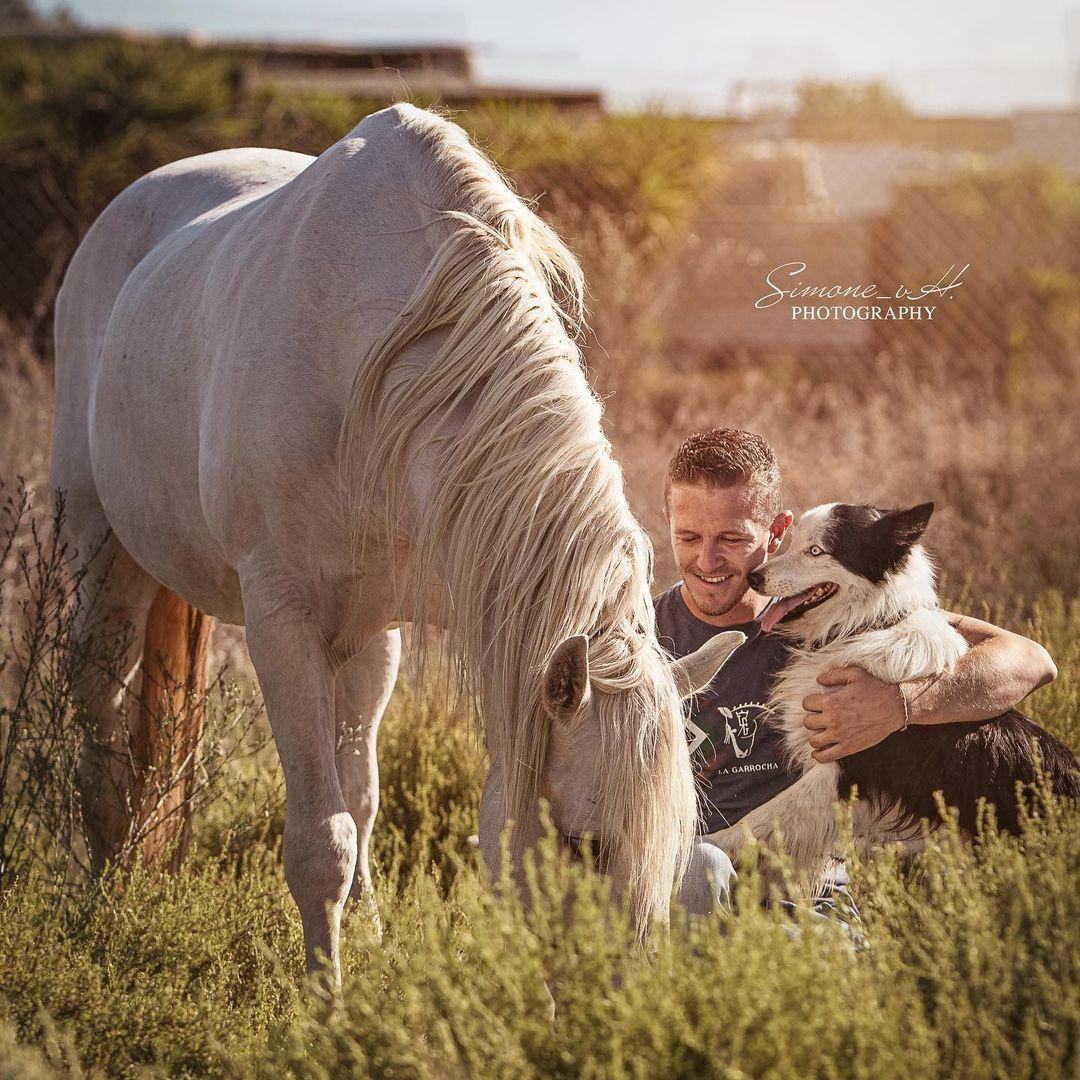horse: (47, 93, 742, 1012)
